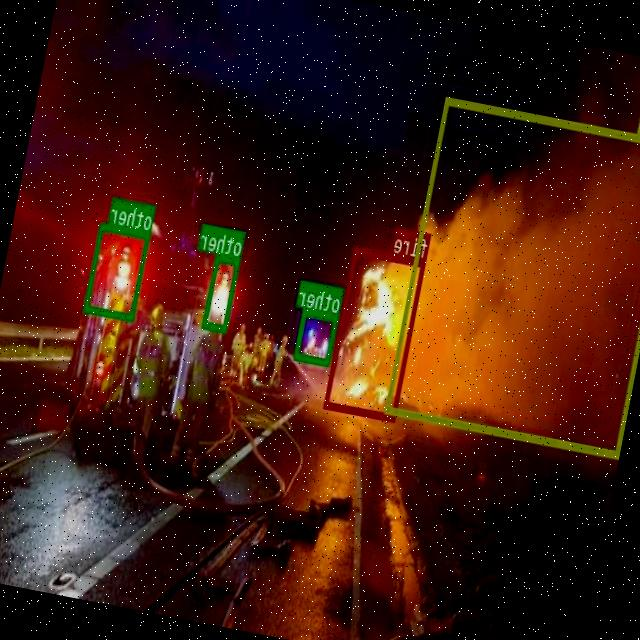fire: (324, 246, 427, 421)
smoke: (385, 96, 640, 457)
